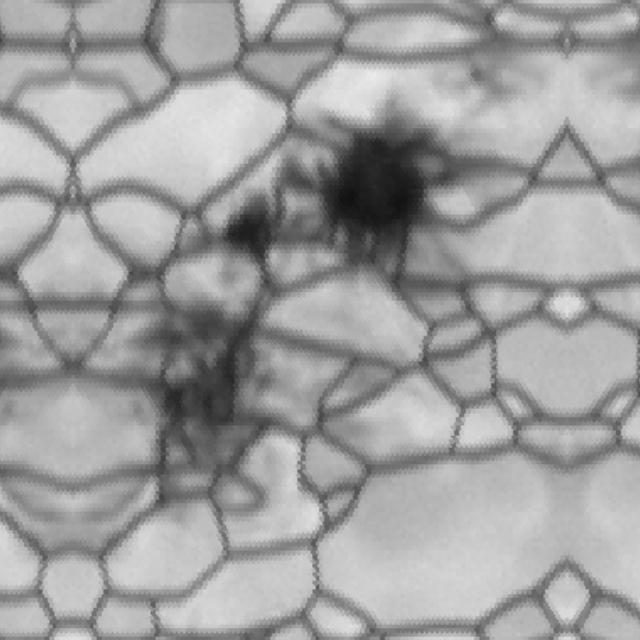good_void: (197, 89, 482, 328), (94, 277, 293, 550), (446, 33, 555, 117), (578, 33, 640, 115)
